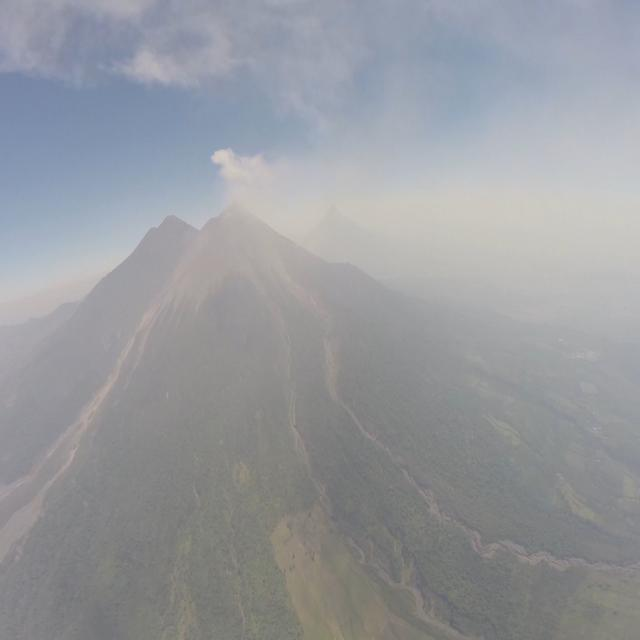Plume: (210, 142, 282, 209)
Summit: (206, 197, 266, 220)
